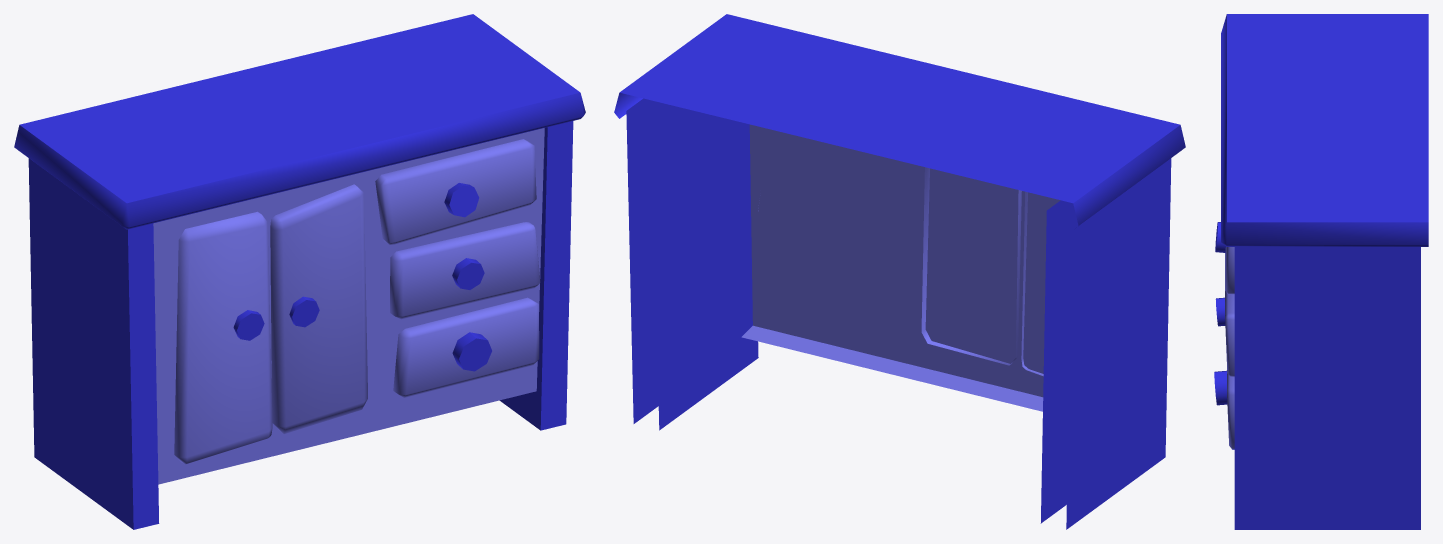
Rendered from BathroomChestDrawers.FBX.
The picture shows the model from 3 angles, left to right: view 1: azimuth 30°, elevation 25°; view 2: azimuth 150°, elevation 25°; view 3: azimuth 270°, elevation 25°; orthographic projection. The views are drawn at different scales.
Parts seen in each view (by area): view 1: BathroomChestDrawers; view 2: BathroomChestDrawers; view 3: BathroomChestDrawers.
Part boxes in pixels (x1,y1,x2,y2): BathroomChestDrawers: (14,14,585,529); BathroomChestDrawers: (614,14,1185,529); BathroomChestDrawers: (1214,14,1428,529).
Size of the model in its own units: 5.28 by 3.61 by 2.25.
